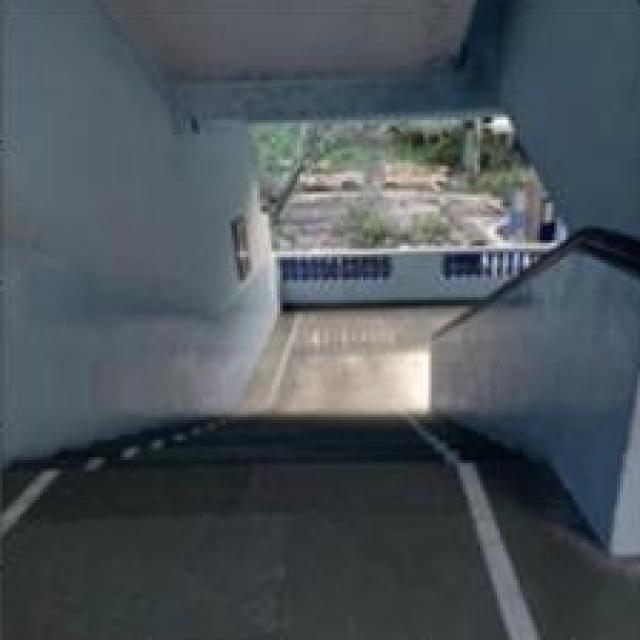downstair: (115, 375, 481, 530)
